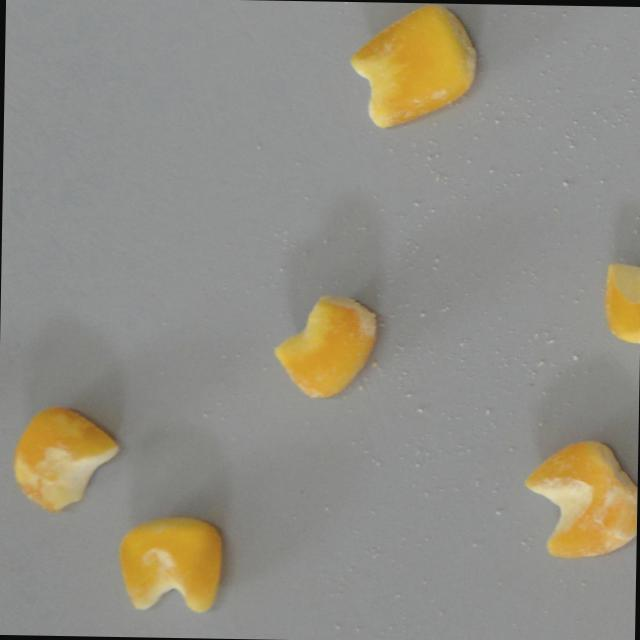no_canjicado: (116, 513, 225, 613), (604, 247, 640, 345)
pelicula: (521, 436, 638, 558), (351, 10, 477, 117), (11, 403, 121, 511), (274, 292, 377, 399)
